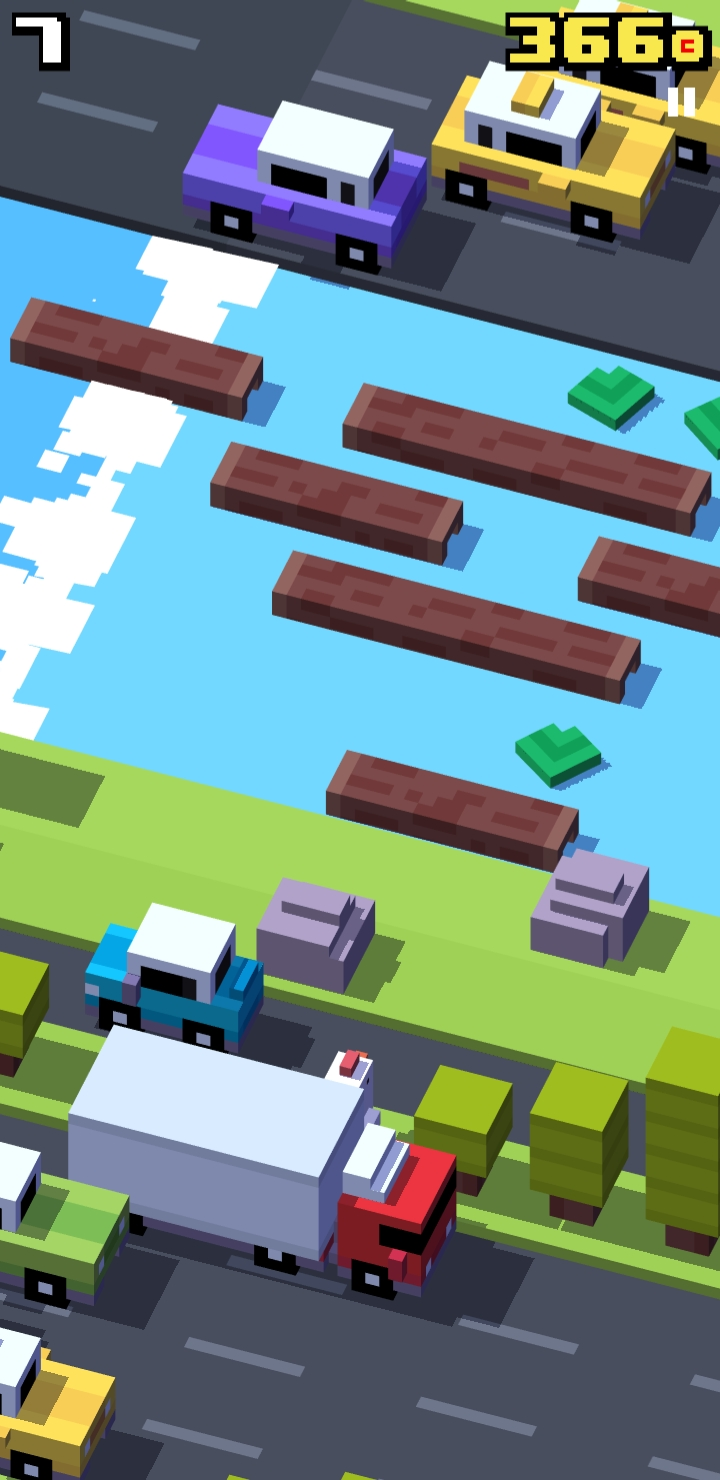car: (414, 56, 678, 245), (187, 89, 430, 276), (74, 898, 285, 1052), (523, 7, 720, 167), (1, 1138, 134, 1312), (1, 1316, 119, 1478)
duck: (321, 1043, 387, 1163)
lilypad: (565, 363, 659, 427), (512, 725, 605, 789), (683, 399, 720, 456)
log: (265, 545, 647, 709), (339, 378, 712, 545), (318, 745, 583, 879), (5, 290, 267, 423), (209, 438, 465, 572), (570, 532, 720, 636)
rock: (252, 874, 385, 996), (521, 849, 656, 959)
tree: (638, 1025, 720, 1267), (519, 1058, 630, 1232), (407, 1063, 512, 1209), (1, 936, 54, 1079)
truck: (56, 1030, 463, 1307)
